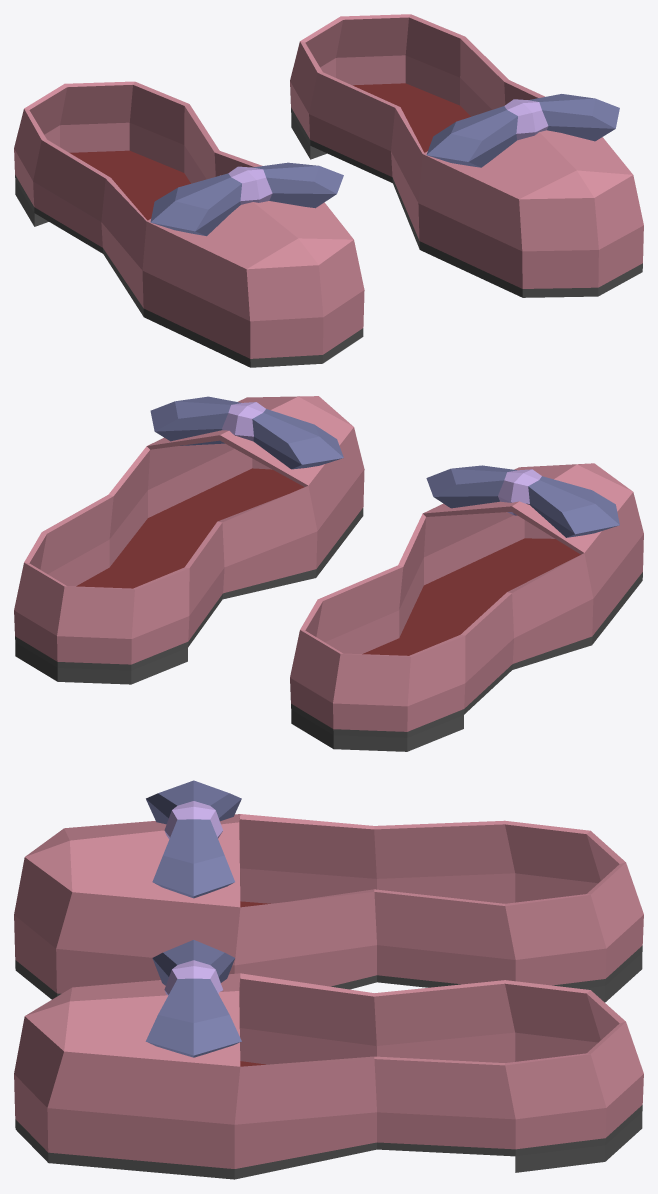
The model's file is Loafers_3.fbx.
3 renders of one model, top to bottom at view 1: azimuth 30°, elevation 25°; view 2: azimuth 150°, elevation 25°; view 3: azimuth 270°, elevation 25°, orthographic. The views are drawn at different scales.
Parts seen in each view (by area): view 1: Loafers_3; view 2: Loafers_3; view 3: Loafers_3.
Part boxes in pixels (x1=…): Loafers_3: x1=14, y1=14, x2=643, y2=367; Loafers_3: x1=14, y1=396, x2=643, y2=751; Loafers_3: x1=14, y1=780, x2=643, y2=1179.
Size of the model in its own units: 37.87 by 37.2 by 10.82.
